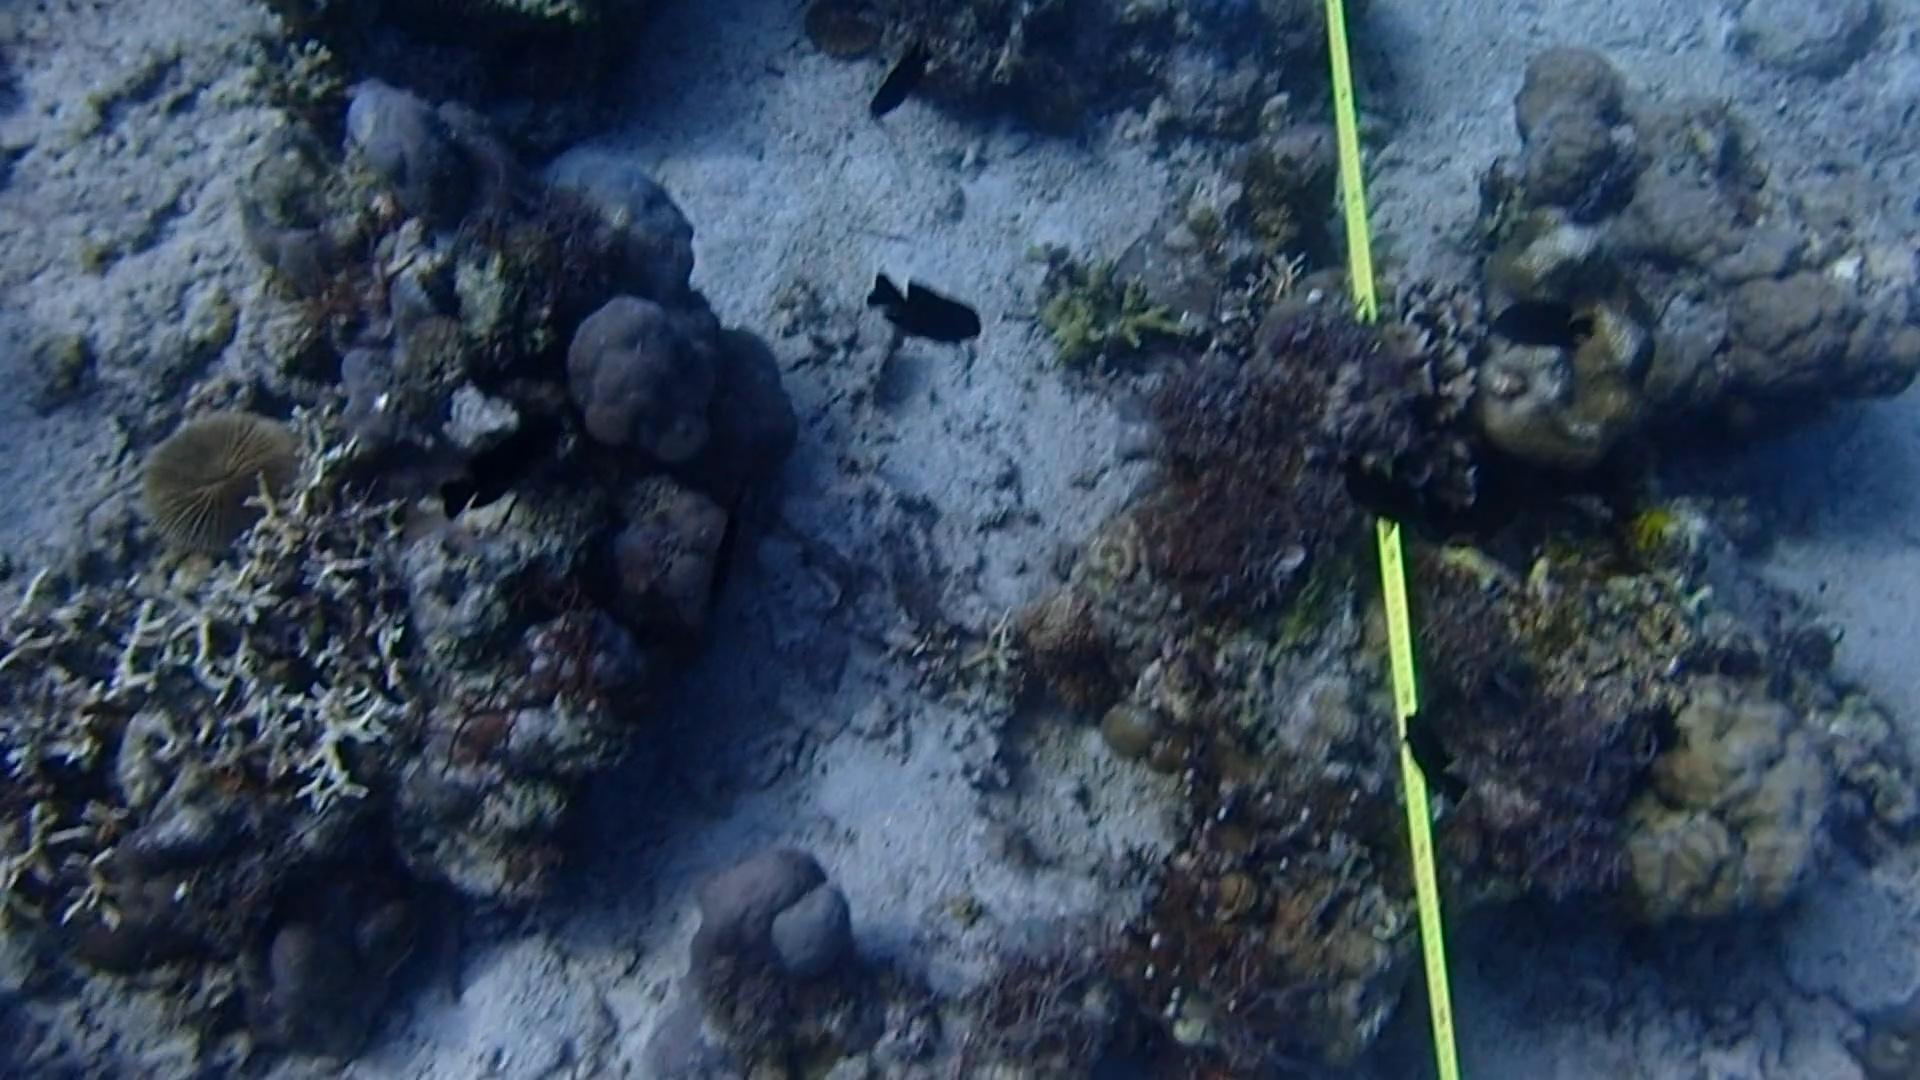Dark Fish: (856, 265, 992, 355), (448, 415, 571, 502), (1317, 451, 1424, 541), (1465, 301, 1593, 364), (858, 30, 939, 124), (1390, 703, 1470, 790), (708, 483, 749, 616)
